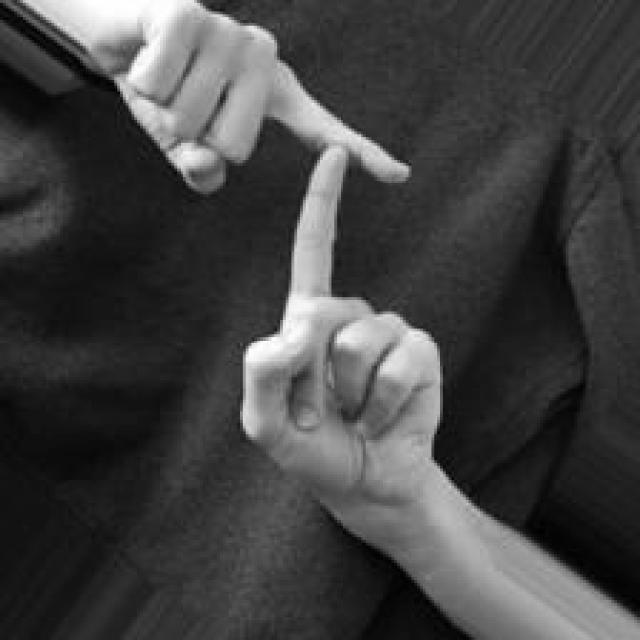T: (88, 0, 460, 515)
